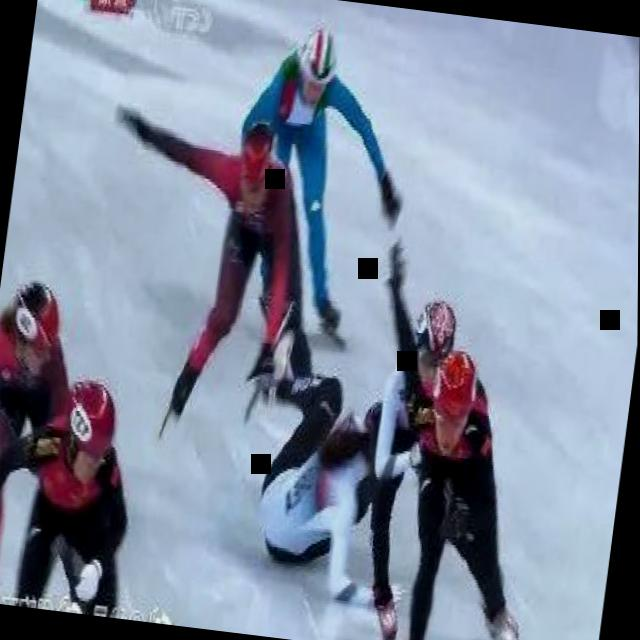Fall-Detected: (216, 320, 425, 617)
